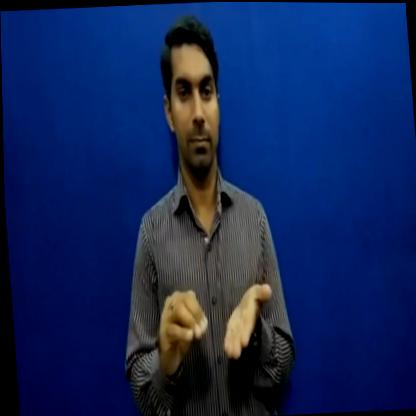ExcuseMe: (144, 251, 286, 383)
